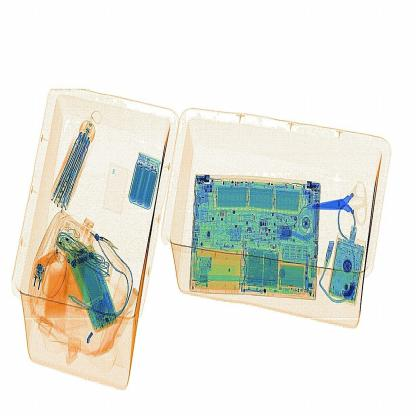gun: (311, 172, 378, 239)
